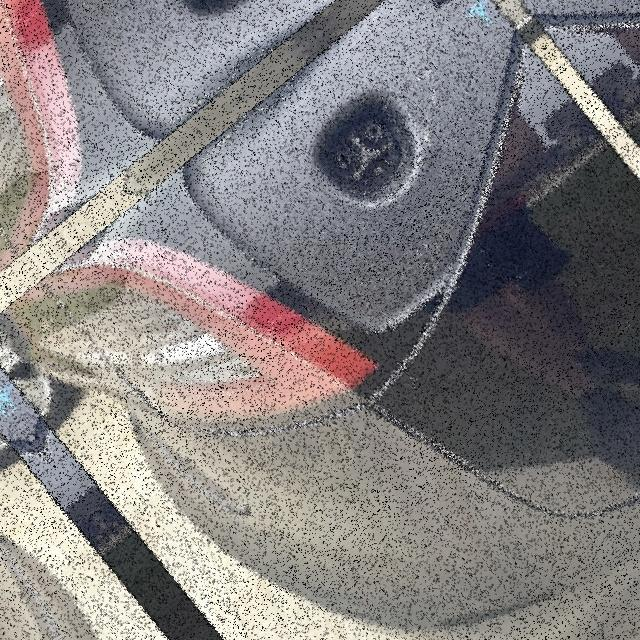Tesla Model-S-: (292, 86, 438, 209)
